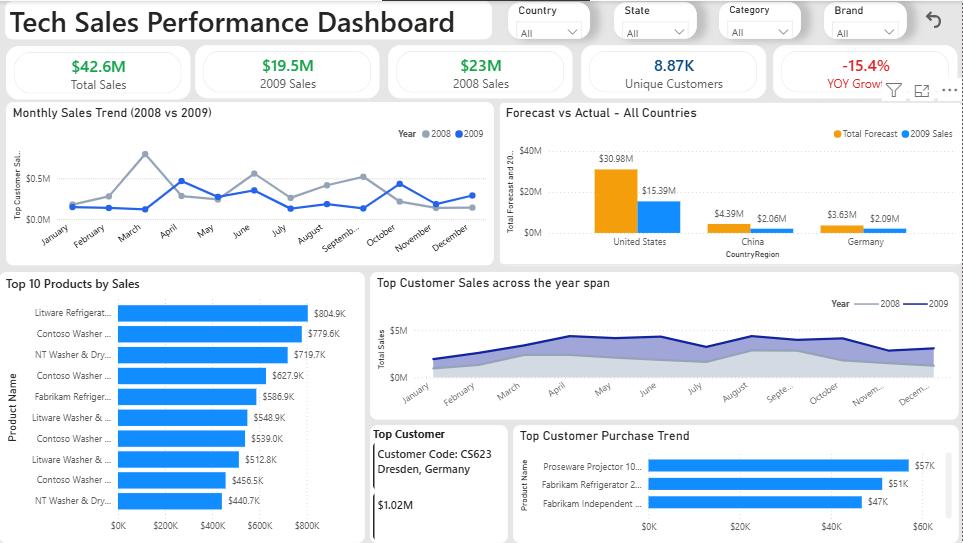

What the dashboard file says about the page in this screenshot:
{"tool":"powerbi","page":{"name":"Page 1","canvas":[1280,720],"ordinal":0},"visuals":[{"type":"cardVisual","fields":{"Data":["FACT_Sales.Total Sales"]},"box":[8.9,59.2,244.6,71],"z":0},{"type":"cardVisual","fields":{"Data":["DIM_Date.Sales 2009"]},"box":[260,58.2,245.5,71],"z":1000},{"type":"cardVisual","fields":{"Data":["DIM_Date.Sales 2008"]},"box":[517.3,58.2,245.5,71],"z":2000},{"type":"barChart","title":"Top 10 Products by Sales","fields":{"Category":["DIM_Product.Product Name"],"Y":["FACT_Sales.Total Sales"]},"box":[0,359.9,486.2,359.9],"z":3000},{"type":"cardVisual","fields":{"Data":["DIM_Date.Growth %"]},"box":[1028.2,58.2,245,71],"z":4000},{"type":"lineChart","title":"Monthly Sales Trend (2008 vs 2009)","fields":{"Category":["DIM_Date.MonthName"],"Series":["DIM_Date.Year"],"Y":["DIM_Customer.Top Customer Sales"]},"box":[8.9,134.1,647.9,216.9],"z":5000},{"type":"clusteredColumnChart","fields":{"Y":["FACT_Forecast.Total Forecast","DIM_Date.Sales 2009"],"Category":["DIM_Geography.CountryRegion"]},"box":[663.7,134.1,616.3,216.9],"z":6000},{"type":"textbox","box":[8.6,0,647.1,51],"z":7000},{"type":"slicer","fields":{"Values":["DIM_Product.Category"]},"box":[956.5,2,109.5,49.3],"z":8000},{"type":"cardVisual","title":"Top Customer","fields":{"Data":["DIM_Customer.Customer Label","DIM_Customer.Top Customer Sales"]},"box":[493.2,563.4,182.9,156.6],"z":9000},{"type":"slicer","fields":{"Values":["DIM_Geography.CountryRegion"]},"box":[675.5,2,109.5,49.3],"z":10000},{"type":"slicer","fields":{"Values":["DIM_Geography.State"]},"box":[817.5,2,110.4,49.3],"z":11000},{"type":"stackedAreaChart","title":"Top Customer Sales across the year span","fields":{"Category":["DIM_Date.MonthName"],"Y":["FACT_Sales.Total Sales"],"Series":["DIM_Date.Year"]},"box":[493.1,359.9,782,196.2],"z":12000},{"type":"barChart","title":"Top Customer Purchase Trend","fields":{"Category":["DIM_Product.Product Name"],"Y":["DIM_Customer.Top Customer Sales"]},"box":[683.5,563,591.6,157],"z":13000},{"type":"slicer","fields":{"Values":["DIM_Brand.Brand"]},"box":[1095.6,2,110.4,49.3],"z":14000},{"type":"cardVisual","fields":{"Data":["DIM_Customer.Unique Customers"]},"box":[773.1,58.2,245.5,71],"z":15000},{"type":"actionButton","box":[1217.1,0,58.8,49.2],"z":16000}]}

Visuals, with their boxes in screenshot pixels (x1, y1, x2, y2), scaled from the page's 1280x720 canvas onto the 963x543 screenshot:
cardVisual - FACT_Sales.Total Sales: [7, 45, 191, 98]
cardVisual - DIM_Date.Sales 2009: [196, 44, 380, 97]
cardVisual - DIM_Date.Sales 2008: [389, 44, 574, 97]
"Top 10 Products by Sales" barChart: [0, 271, 366, 542]
cardVisual - DIM_Date.Growth %: [774, 44, 958, 97]
"Monthly Sales Trend (2008 vs 2009)" lineChart: [7, 101, 494, 265]
clusteredColumnChart - FACT_Forecast.Total Forecast x DIM_Date.Sales 2009: [499, 101, 962, 265]
textbox: [6, 0, 493, 38]
slicer - DIM_Product.Category: [720, 2, 802, 39]
"Top Customer" cardVisual: [371, 425, 509, 542]
slicer - DIM_Geography.CountryRegion: [508, 2, 591, 39]
slicer - DIM_Geography.State: [615, 2, 698, 39]
"Top Customer Sales across the year span" stackedAreaChart: [371, 271, 959, 419]
"Top Customer Purchase Trend" barChart: [514, 425, 959, 542]
slicer - DIM_Brand.Brand: [824, 2, 907, 39]
cardVisual - DIM_Customer.Unique Customers: [582, 44, 766, 97]
actionButton: [916, 0, 960, 37]
